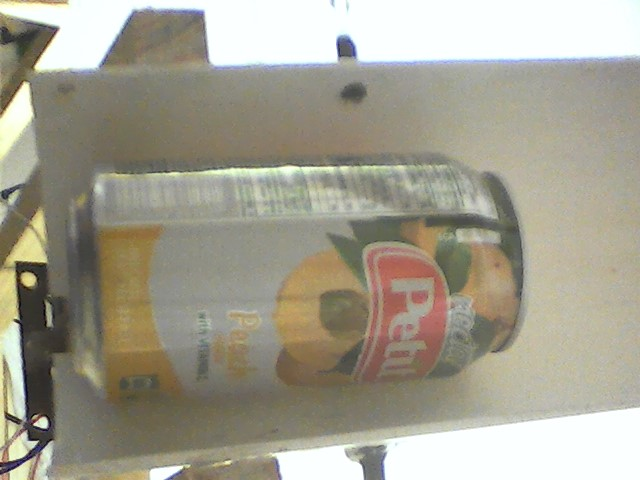lata: (56, 151, 534, 403)
